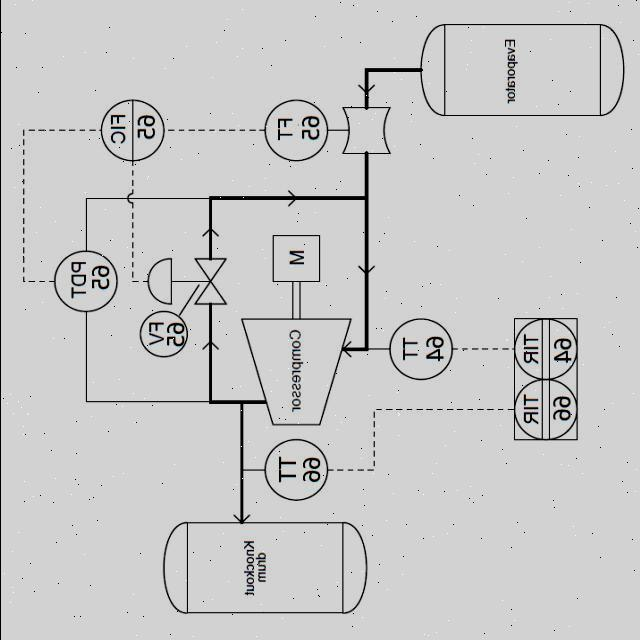Pneumatic-Diaphragm Gate Valve: (138, 238, 230, 306)
